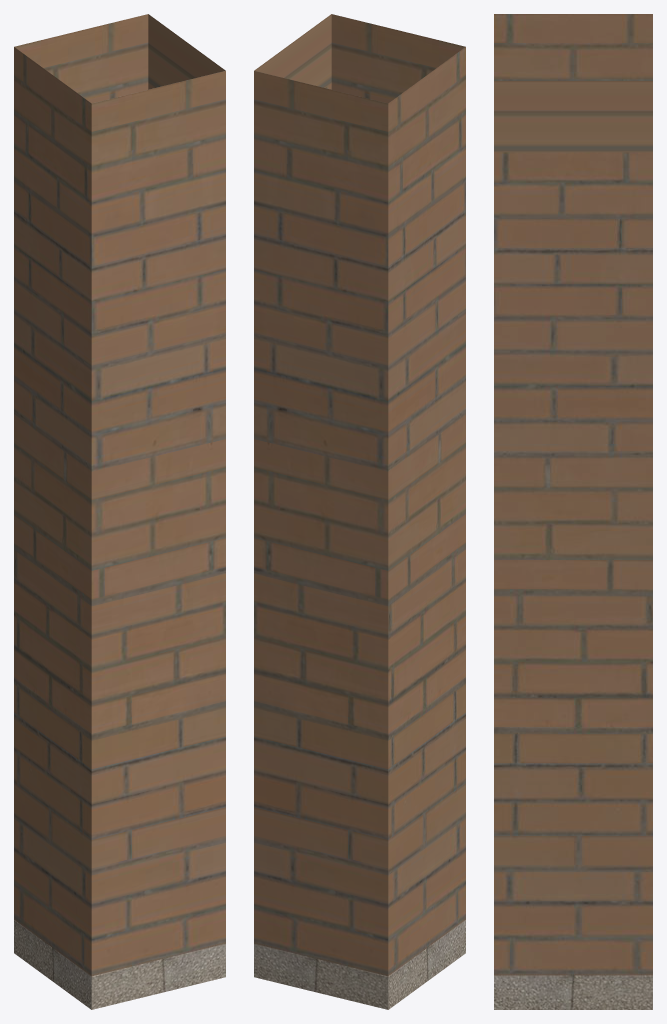
File: Columna_Ancha.fbx
The picture shows the model from 3 angles, left to right: view 1: azimuth 30°, elevation 25°; view 2: azimuth 150°, elevation 25°; view 3: azimuth 270°, elevation 25°; orthographic projection. The views are drawn at different scales.
Parts seen in each view (by area): view 1: ColumnaDoble_Pared_Ladrillo; view 2: ColumnaDoble_Pared_Ladrillo; view 3: ColumnaDoble_Pared_Ladrillo.
Part boxes in pixels (box(x1,y1,x2,y2)): ColumnaDoble_Pared_Ladrillo: box(14, 14, 225, 1009); ColumnaDoble_Pared_Ladrillo: box(254, 14, 465, 1009); ColumnaDoble_Pared_Ladrillo: box(494, 14, 652, 1009).
Bounding box in the file's own units: 62.02 × 400 × 62.02.
